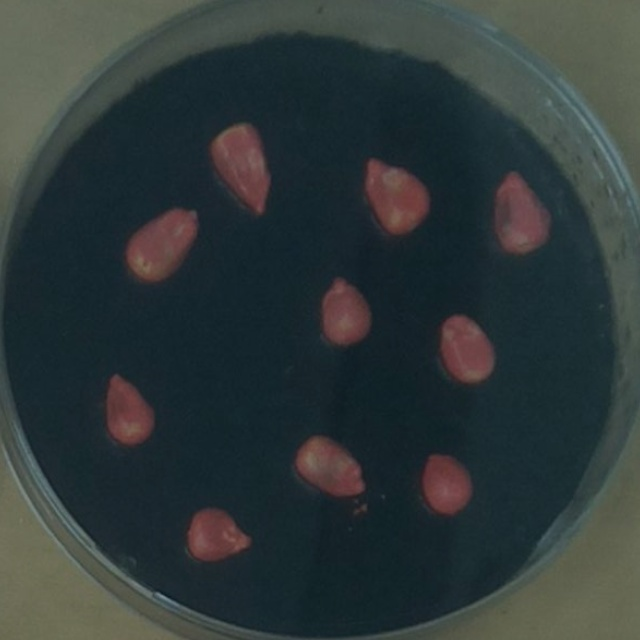Zea mays: (200, 111, 279, 222), (114, 197, 207, 289), (353, 148, 439, 243), (486, 161, 558, 263), (286, 426, 374, 506), (431, 305, 504, 393), (310, 267, 381, 355), (179, 499, 260, 569), (412, 443, 482, 523), (97, 364, 162, 450)
